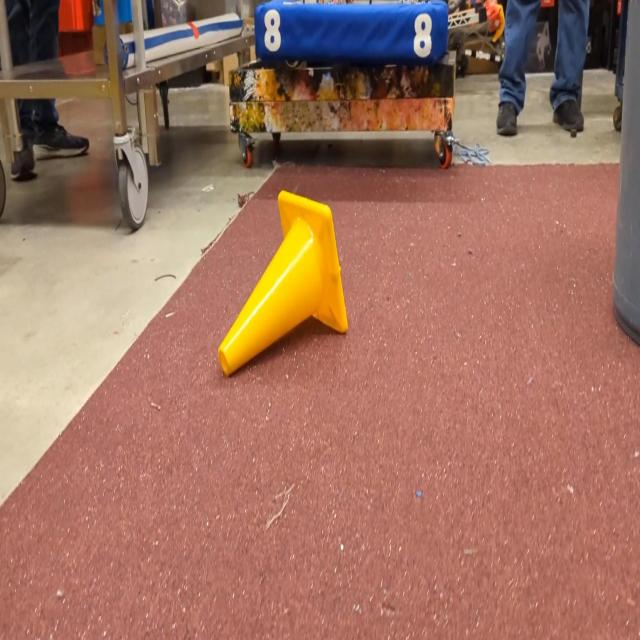frc_cone: (217, 190, 348, 378)
